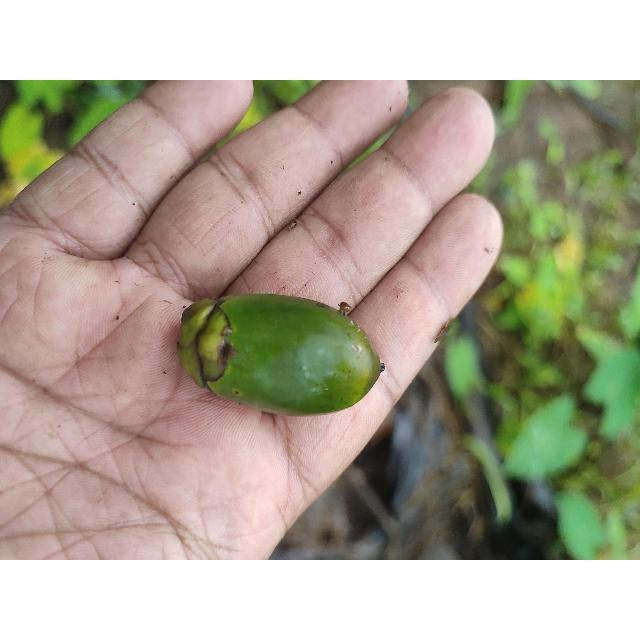good: (176, 294, 384, 418)
